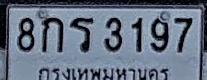1: (131, 17, 142, 52)
3: (104, 17, 122, 51)
7: (174, 17, 192, 52)
8: (17, 17, 34, 51)
9: (150, 16, 168, 52)
A01: (41, 16, 63, 52)
A35: (70, 17, 94, 52)
BKK: (31, 62, 172, 80)
